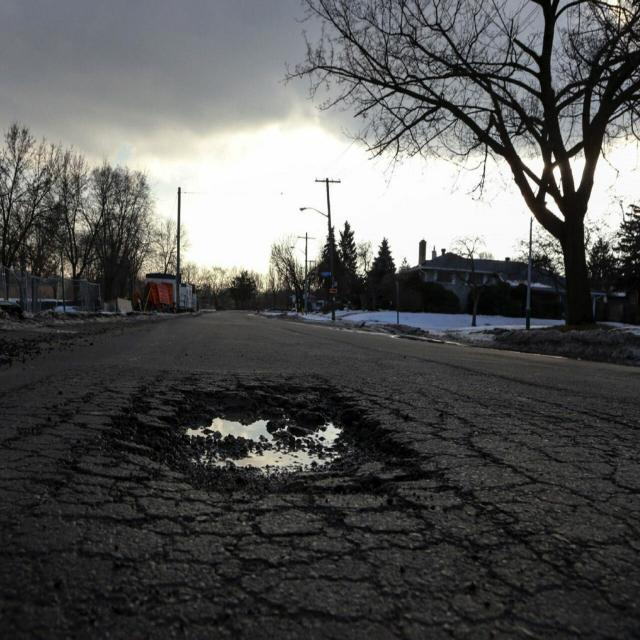Buraco: (104, 381, 440, 500)
